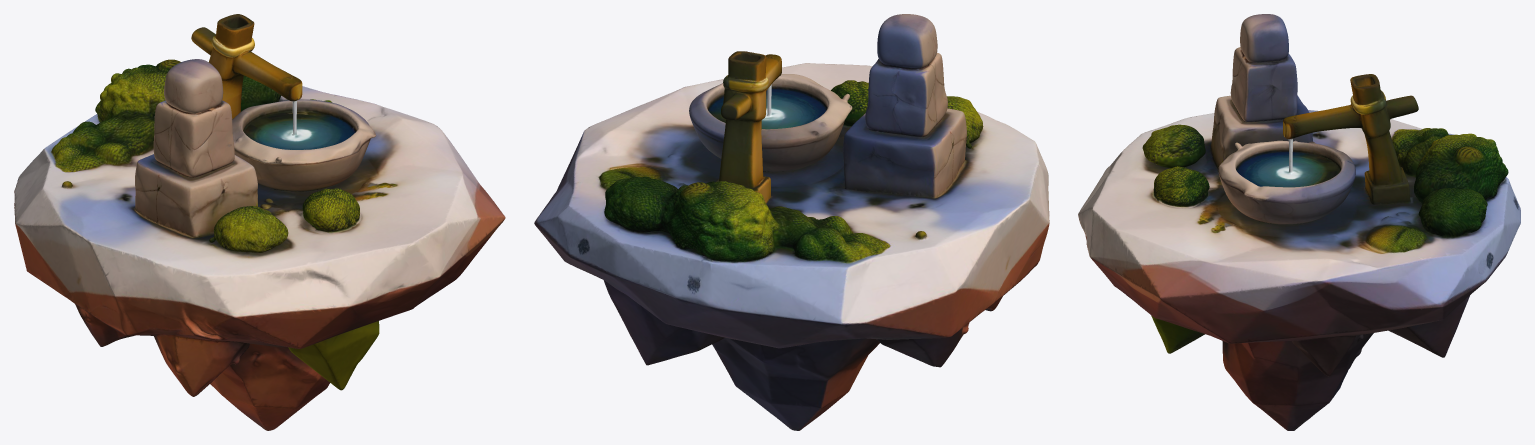
File: floating-island.glb
3 renders of one model, left to right at view 1: azimuth 30°, elevation 25°; view 2: azimuth 150°, elevation 25°; view 3: azimuth 270°, elevation 25°, orthographic. The views are drawn at different scales.
Parts seen in each view (by area): view 1: tripo_node_ffbc13c8-797b-48a3-b8c7-52055e04d3d8; view 2: tripo_node_ffbc13c8-797b-48a3-b8c7-52055e04d3d8; view 3: tripo_node_ffbc13c8-797b-48a3-b8c7-52055e04d3d8.
Boxes of the visible parts, <box> form: tripo_node_ffbc13c8-797b-48a3-b8c7-52055e04d3d8: <box>14,14,505,430</box>; tripo_node_ffbc13c8-797b-48a3-b8c7-52055e04d3d8: <box>534,14,1049,430</box>; tripo_node_ffbc13c8-797b-48a3-b8c7-52055e04d3d8: <box>1078,14,1520,430</box>.
Bounding box in the file's own units: 0.9365 × 0.9213 × 0.9999.
1 material, 1 textured.
